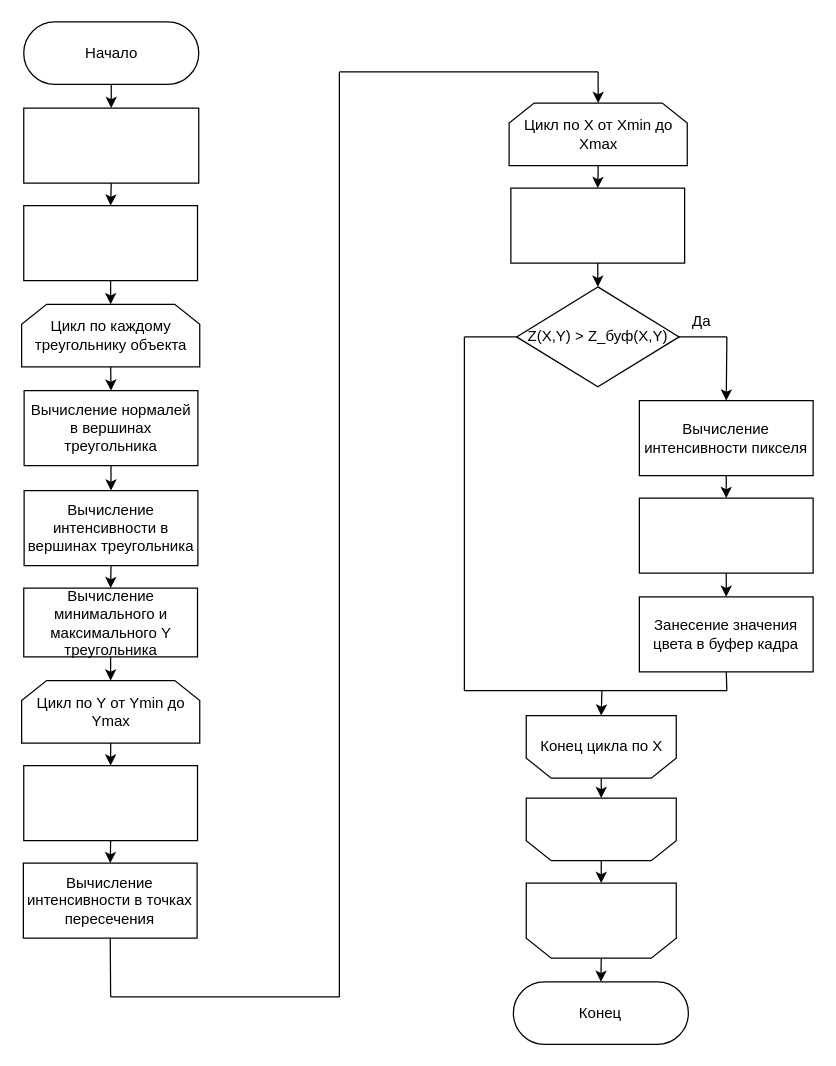
Image size: 836x1066. Some labels were removed from this diagram. The centre of each missing label's shape, as x and y in pixels:
Z_буф(X,Y) = Z(X,Y): (x=725, y=535)
Вычисление координат точек пересечения строки и грани: (x=110, y=802)
Вычисление координаты Z точки (X, Y): (x=597, y=225)
Заполнение z-буфера (Z_буф) минимальными значениями глубины: (x=110, y=242)
Заполнение буфера кадра фоновым цветом: (x=110, y=145)
Конец цикла по Y: (x=600, y=829)
Конец цикла по каждому треугольнику объекта: (x=600, y=920)
